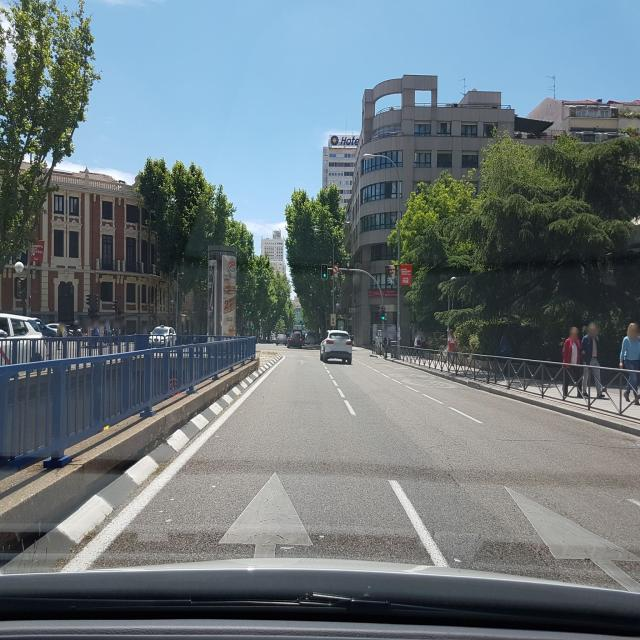car: (0, 311, 70, 370), (319, 329, 353, 364), (148, 325, 177, 348), (286, 331, 304, 349)
